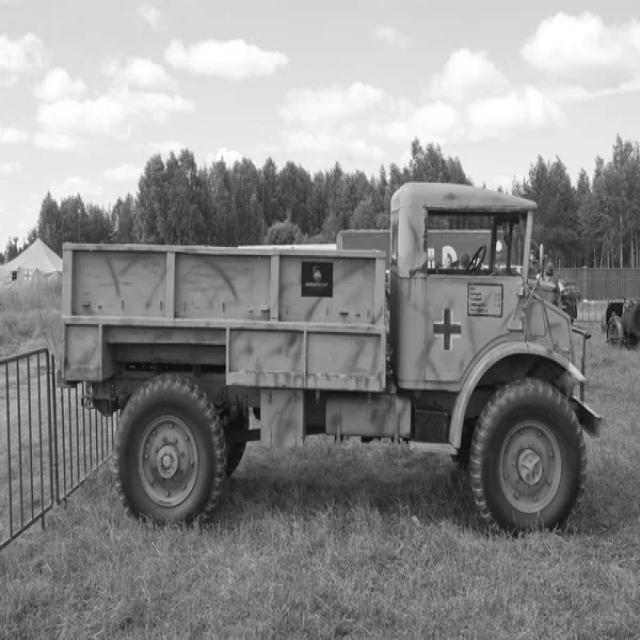Truck: (52, 183, 602, 533)
